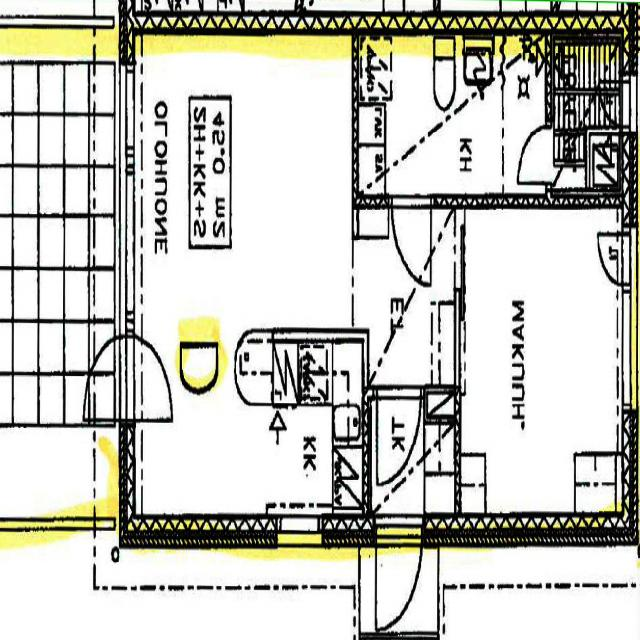door: (376, 512, 422, 640), (376, 386, 422, 492), (120, 336, 176, 418), (79, 336, 135, 418), (392, 193, 431, 287), (518, 125, 552, 183)
